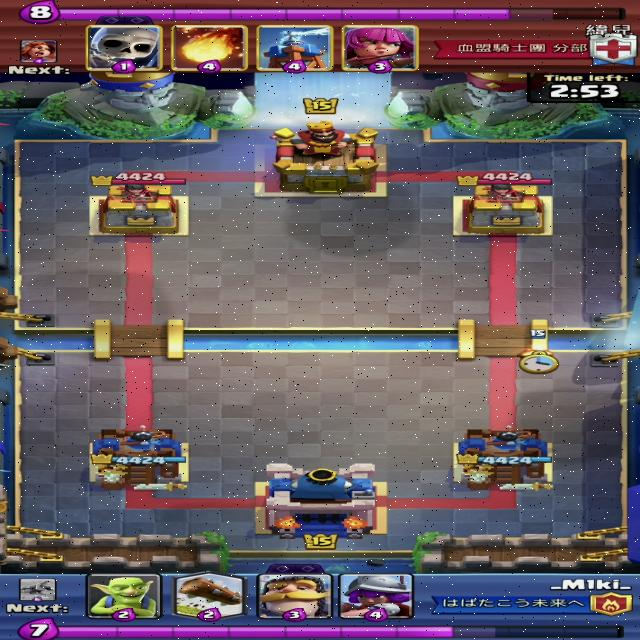Player-FireSpirit: (523, 329, 551, 361)
